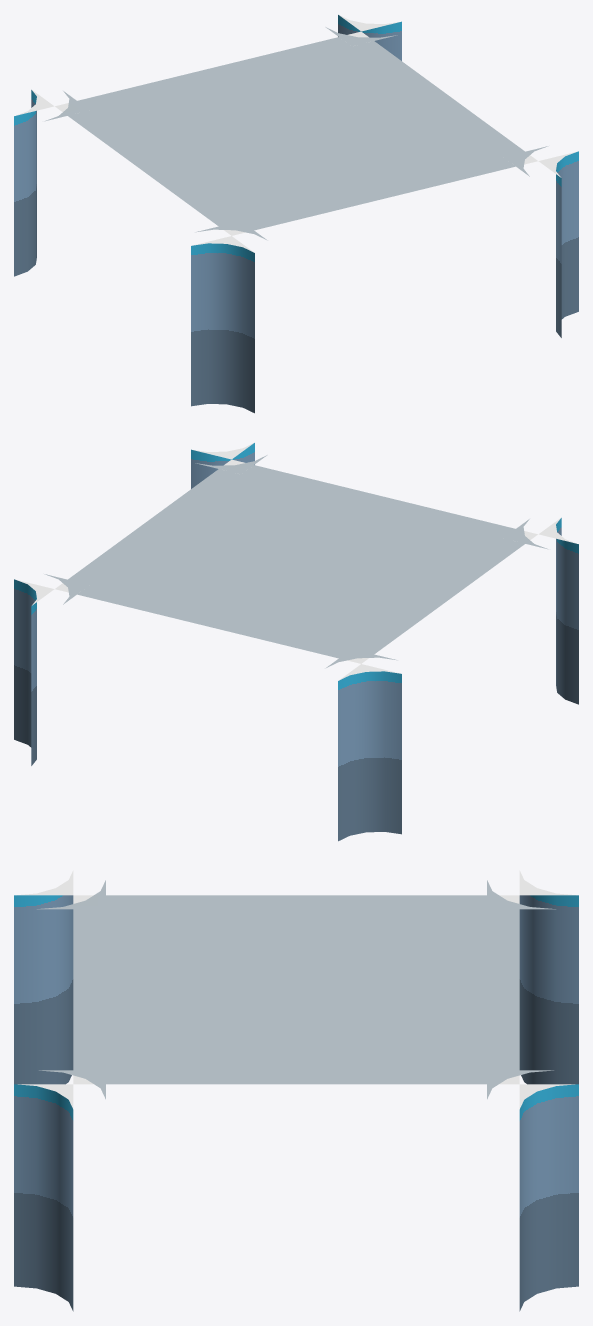
The model's file is TileFace1111Corner0000.fbx.
The picture shows the model from 3 angles, top to bottom: view 1: azimuth 30°, elevation 25°; view 2: azimuth 150°, elevation 25°; view 3: azimuth 270°, elevation 25°; orthographic projection. The views are drawn at different scales.
Parts seen in each view (by area): view 1: Face1111Corner0000v1_; view 2: Face1111Corner0000v1_; view 3: Face1111Corner0000v1_.
Boxes of the visible parts, left/top/right/bottom form: Face1111Corner0000v1_: left=14, top=14, right=578, bottom=413; Face1111Corner0000v1_: left=14, top=442, right=578, bottom=841; Face1111Corner0000v1_: left=14, top=870, right=578, bottom=1311.
Bounding box in the file's own units: 126 × 50.01 × 126.
